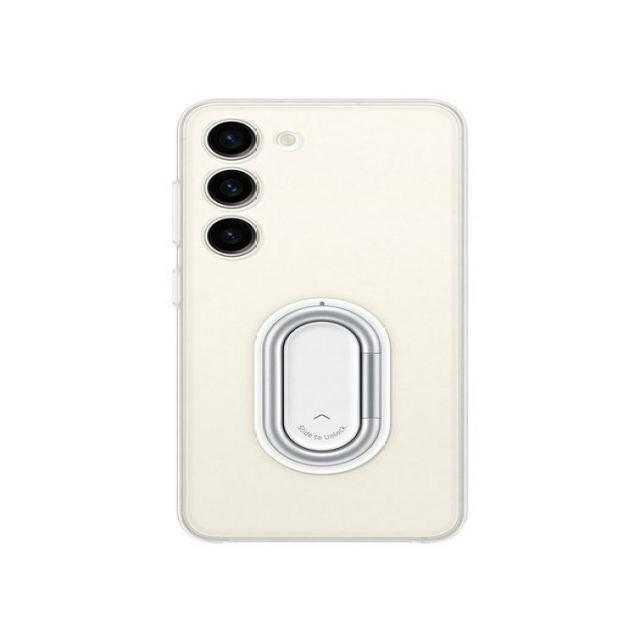phone: (173, 100, 467, 542)
